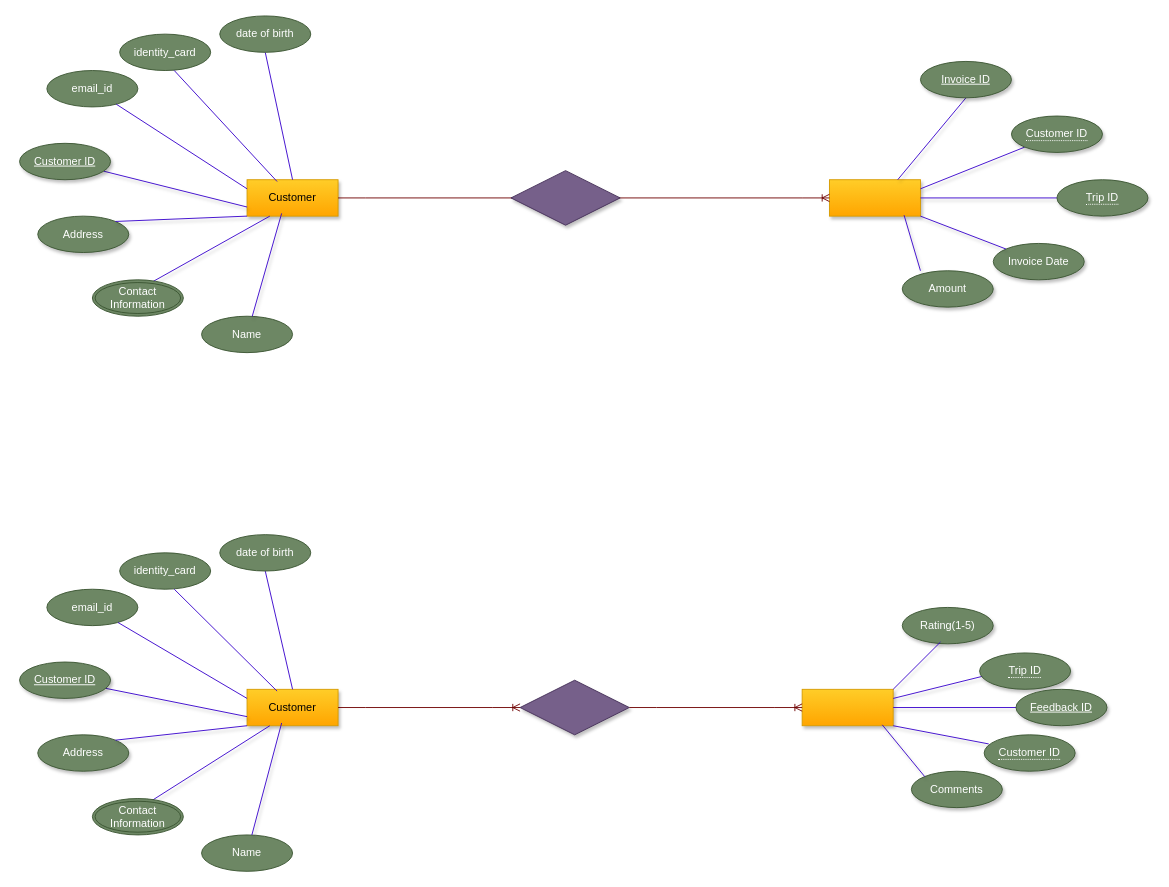
Image size: 1169x887. Some labels were removed from this diagram. Here are the shapes that lost their labels. From the top down, the centre of each, then its label:
At point (566, 199): "recieves".
At point (875, 198): "invoice".
At point (575, 708): "provides".
At point (848, 708): "Feedback".
